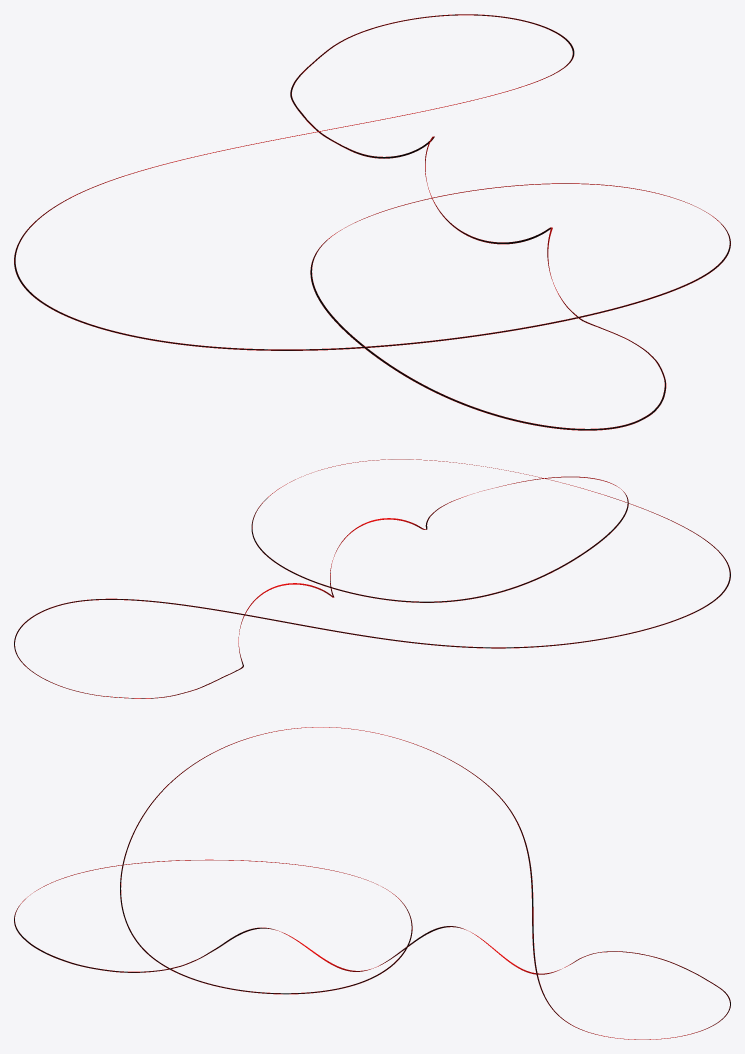
Rendered from Pista3.fbx.
3 views of the same model, one above another, from view 1: azimuth 30°, elevation 25°; view 2: azimuth 150°, elevation 25°; view 3: azimuth 270°, elevation 25° (orthographic). The views are drawn at different scales.
Parts seen in each view (by area): view 1: Pista3_extrudedSurface1; view 2: Pista3_extrudedSurface1; view 3: Pista3_extrudedSurface1.
Part boxes in pixels (x1,y1,x2,y2): Pista3_extrudedSurface1: [14, 14, 730, 430]; Pista3_extrudedSurface1: [14, 459, 730, 698]; Pista3_extrudedSurface1: [14, 727, 730, 1039].
Size of the model in its own units: 875675 by 98692 by 982583.
